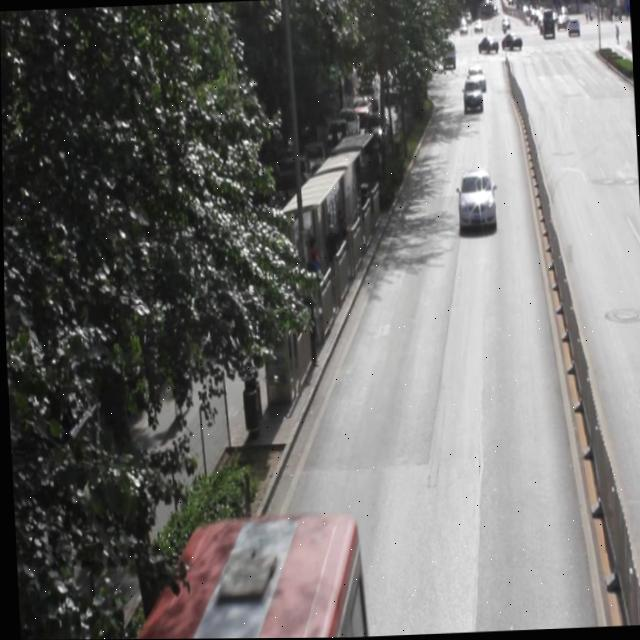car: (454, 169, 494, 229), (460, 77, 481, 114)
van: (131, 513, 362, 639)
